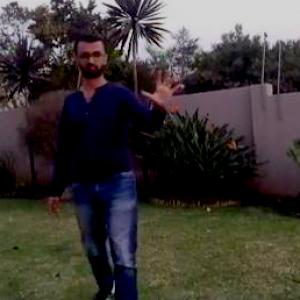follow_hand: (144, 67, 187, 114)
